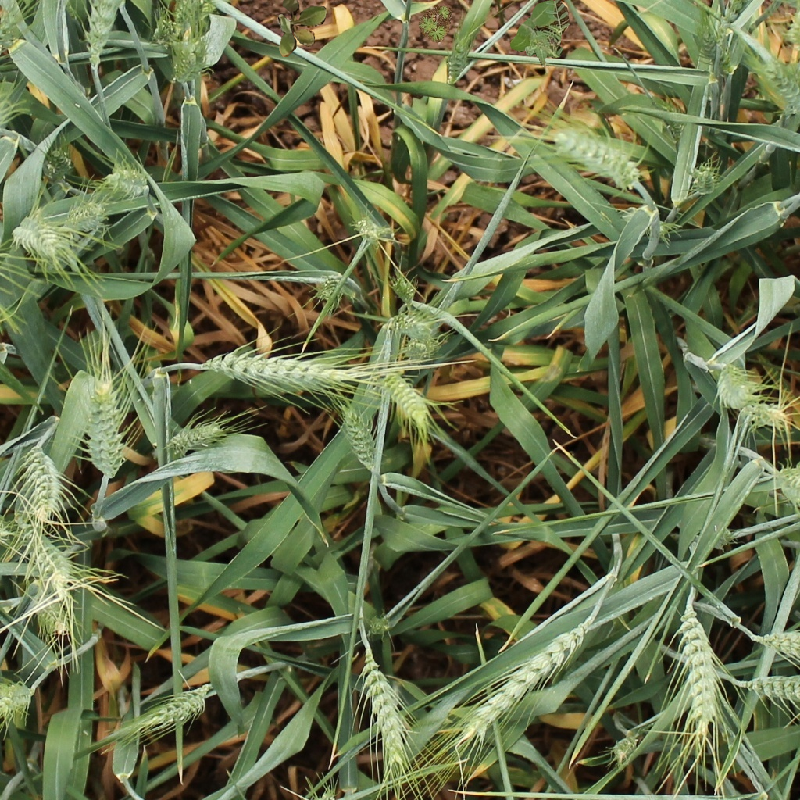spikelet: (459, 618, 596, 741), (200, 344, 359, 394), (547, 121, 643, 191), (675, 605, 723, 736), (81, 366, 129, 480), (356, 660, 402, 768), (130, 680, 214, 737), (375, 363, 436, 437), (23, 525, 77, 601), (19, 441, 64, 523), (335, 401, 382, 472), (9, 209, 69, 261), (708, 356, 762, 412), (81, 1, 123, 66), (163, 417, 228, 458), (381, 306, 443, 348), (694, 10, 729, 82), (762, 57, 799, 119), (743, 669, 800, 705), (685, 519, 740, 555), (755, 623, 800, 663), (349, 209, 399, 245), (768, 457, 800, 513), (169, 35, 205, 84), (740, 398, 793, 431), (62, 195, 110, 231), (312, 268, 359, 303), (103, 163, 151, 197), (1, 678, 35, 721), (40, 142, 74, 184), (441, 43, 474, 86), (168, 1, 215, 31), (686, 159, 721, 199), (385, 268, 420, 303), (610, 727, 644, 761), (782, 1, 800, 48)
weed: (510, 1, 570, 67), (278, 1, 327, 57), (416, 1, 454, 45)
